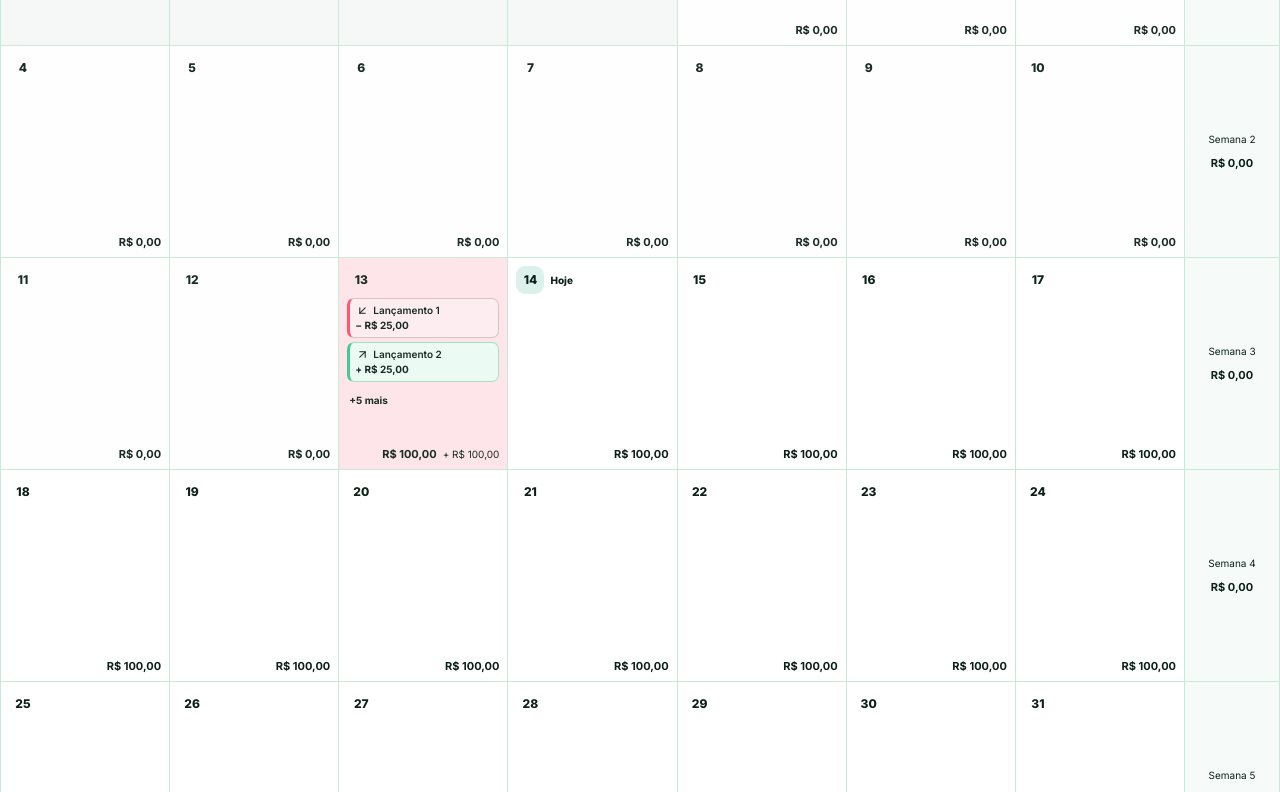
Test: limits the combined transaction/receivable preview to two and lists the selected day in the modal
(page scrolled)
Expected: the number of buttons named "Ver detalhes:" is 2, top-left (347, 298), bottom-right (499, 338); top-left (347, 342), bottom-right (499, 382)
Expected: the text "Lançamento 6" is not shown
Click the button with aria-label "Abrir todos" at (369, 400), box top-left (347, 391), bottom-right (390, 409)
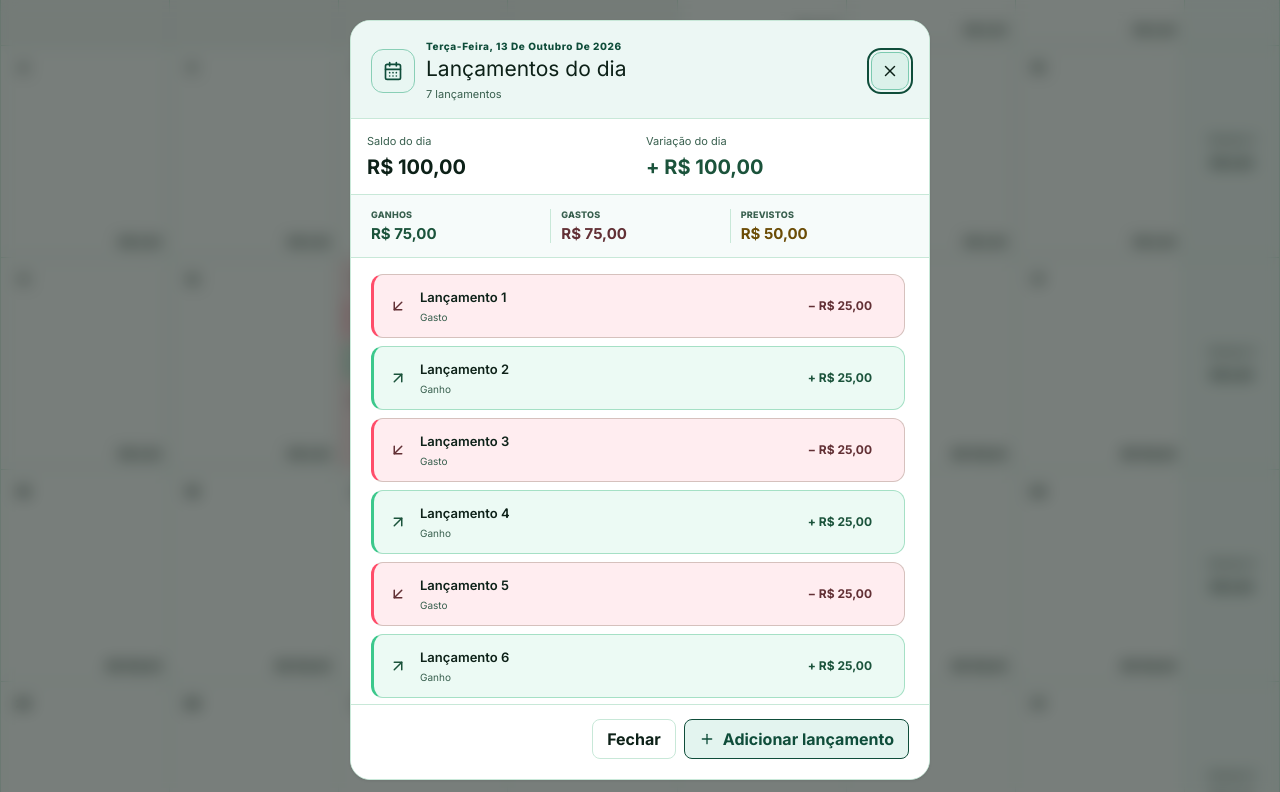
Expected: the text "13 de outubro de 2026" is shown, top-left (426, 40), bottom-right (622, 52)
Expected: the number of buttons named "Ver detalhes:" is 7
Expected: the text "Lançamento 6" is shown, top-left (420, 649), bottom-right (509, 665)
Type keys "{Shift>}{Tab}{/Shift}"
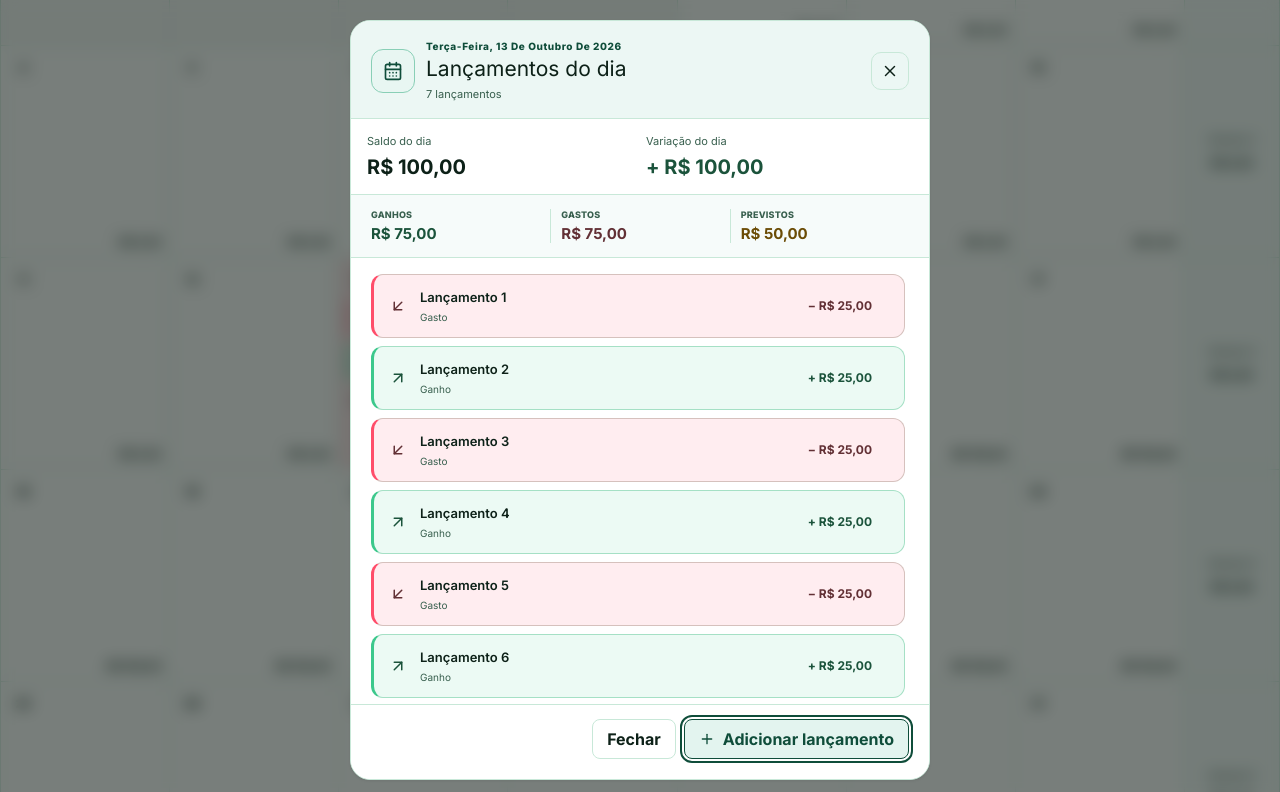
Press Tab
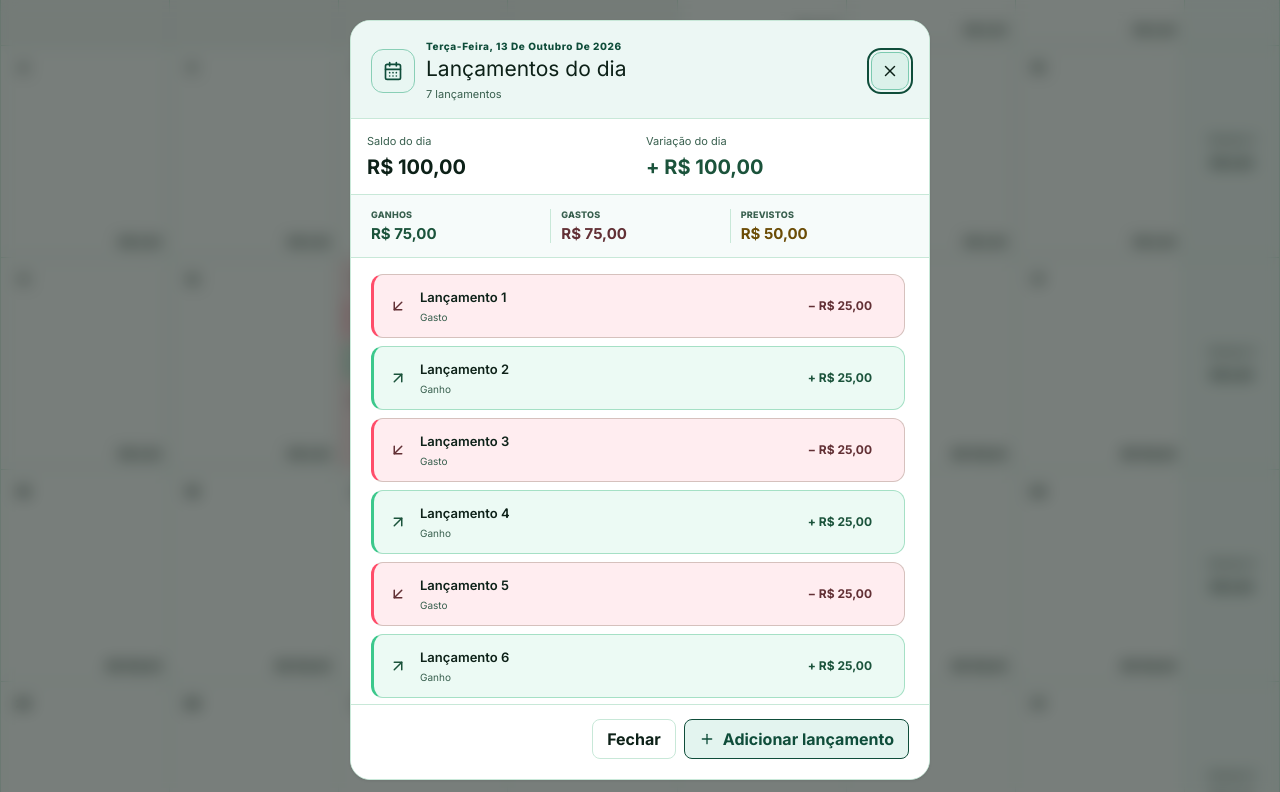
Press Escape
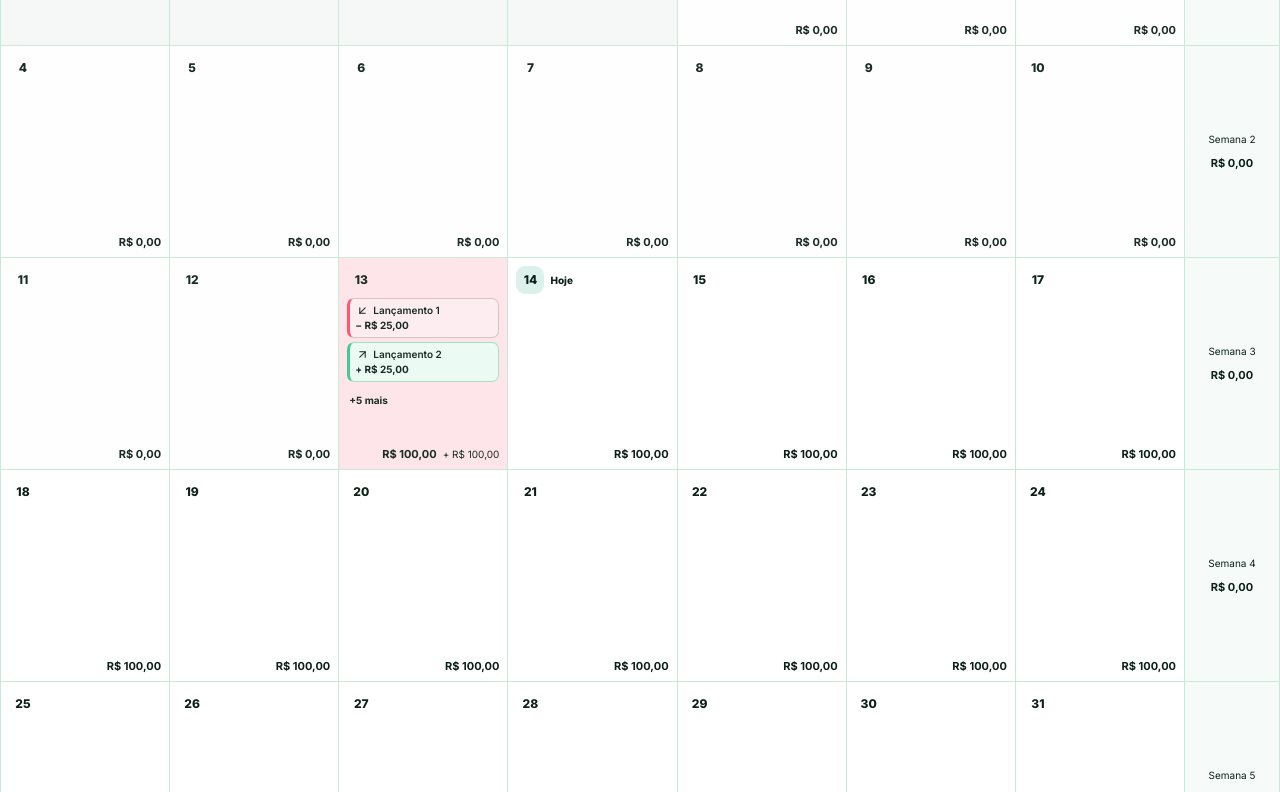
Expected: the dialog is gone
